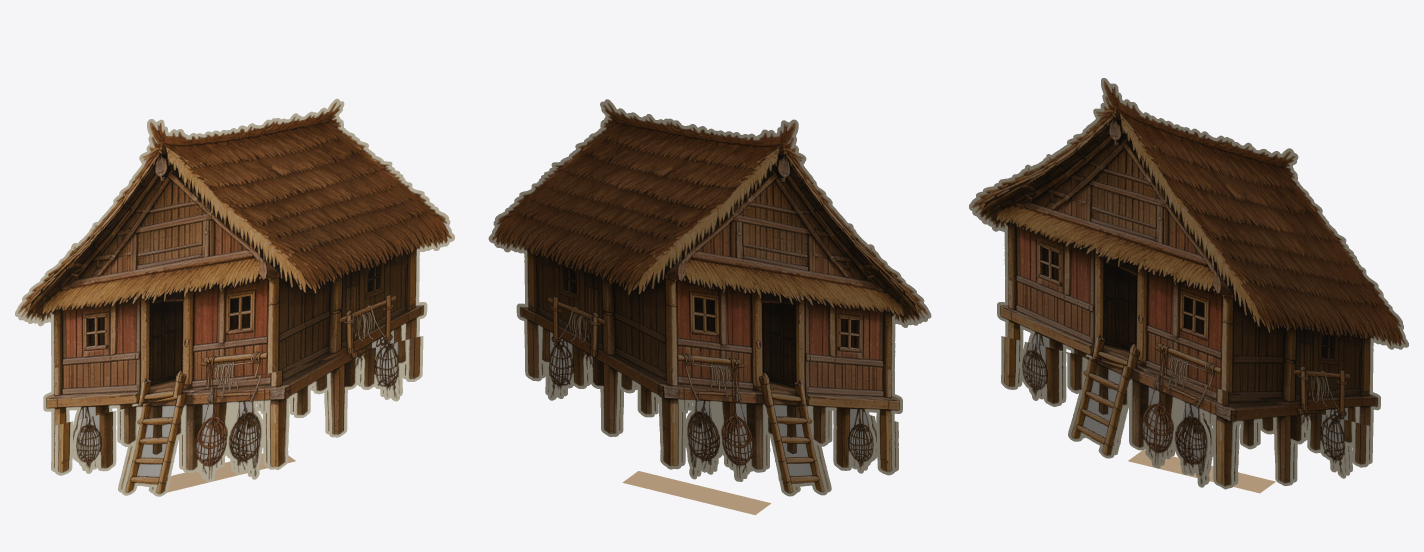
File: toad-prop-stilt-house.glb
The picture shows the model from 3 angles, left to right: view 1: azimuth 30°, elevation 25°; view 2: azimuth 150°, elevation 25°; view 3: azimuth 330°, elevation 25°; orthographic projection.
Parts seen in each view (by area): view 1: stilt-house; view 2: stilt-house; view 3: stilt-house.
Part boxes in pixels (x1,y1,x2,y2): stilt-house: [15, 98, 454, 496]; stilt-house: [488, 99, 931, 515]; stilt-house: [969, 78, 1408, 493].
Size of the model in its own units: 0.52 by 0.4654 by 0.051.
Materials: 4 (3 with a texture image).
